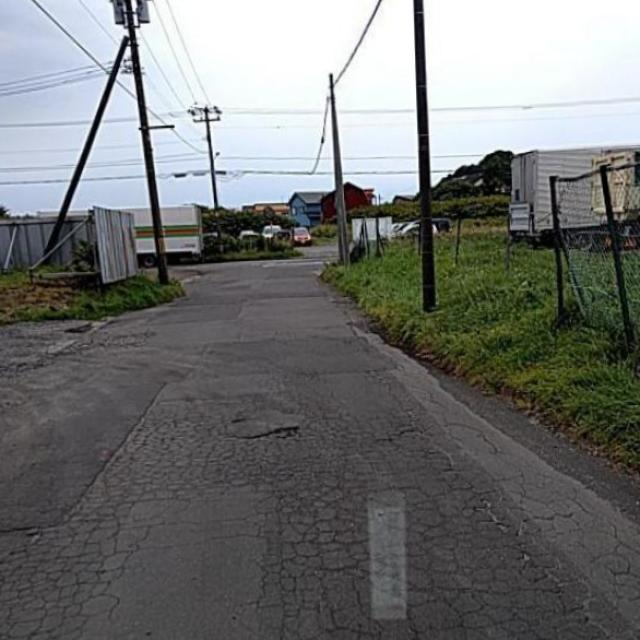Retak Buaya: (267, 454, 594, 640), (0, 434, 186, 640)
